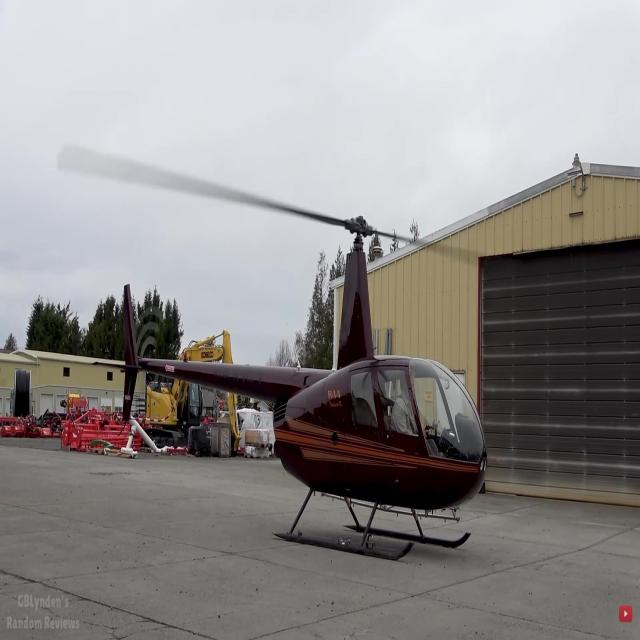CIV_HELO: (92, 213, 489, 564)
